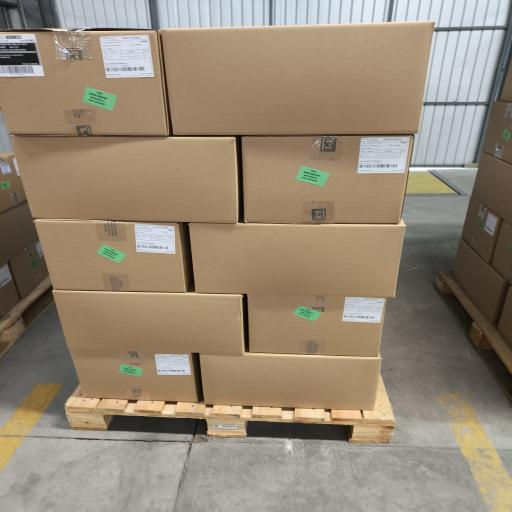pallet: (66, 378, 395, 443), (437, 271, 511, 400), (0, 277, 53, 357)
